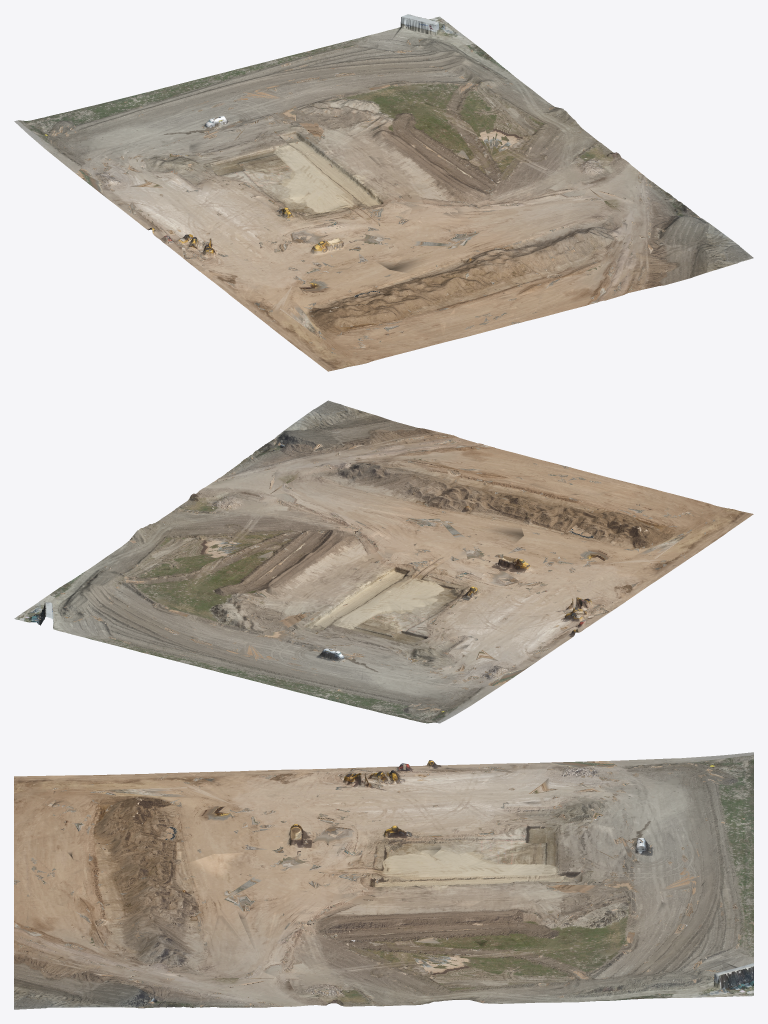
File: Construction site.fbx
3 renders of one model, top to bottom at view 1: azimuth 30°, elevation 25°; view 2: azimuth 150°, elevation 25°; view 3: azimuth 270°, elevation 25°, orthographic. The views are drawn at different scales.
Parts seen in each view (by area): view 1: model; view 2: model; view 3: model.
Part boxes in pixels (<box>): model: <box>14,14,753,371</box>; model: <box>14,400,753,723</box>; model: <box>14,752,753,1009</box>.
Size of the model in its own units: 16909 by 1234 by 21604.
